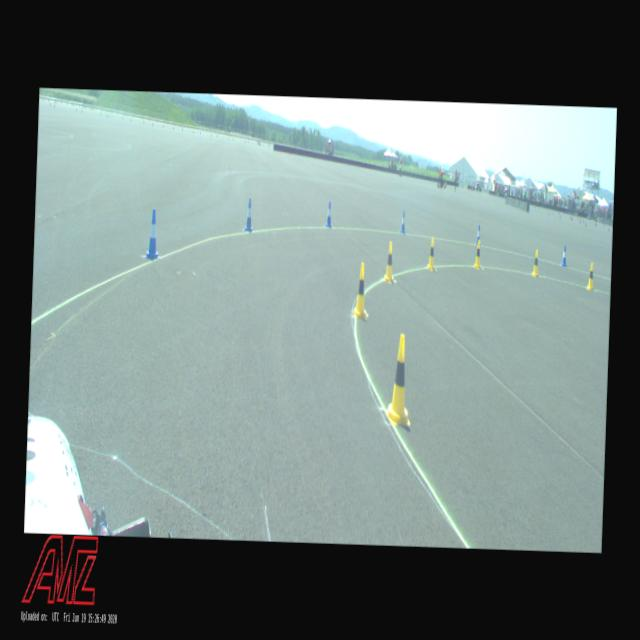blue_cone: (144, 208, 160, 258), (244, 197, 254, 232), (325, 200, 332, 228), (400, 210, 406, 234), (561, 245, 567, 266), (474, 224, 480, 244)
yellow_cone: (384, 332, 414, 427), (353, 262, 368, 321), (384, 241, 394, 283), (426, 236, 436, 271), (472, 239, 482, 269), (531, 249, 539, 277), (586, 263, 594, 290)
